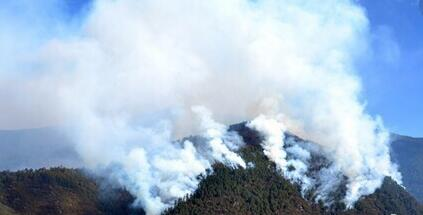yanwu: (21, 1, 400, 211)
